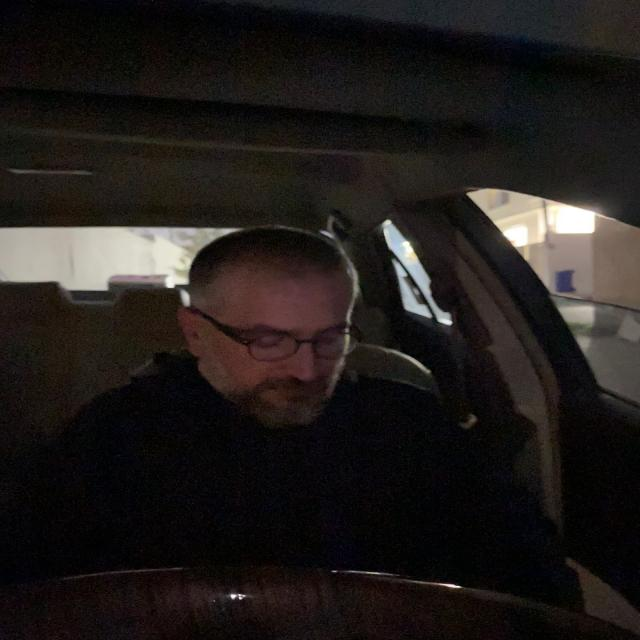drowsy: (192, 243, 360, 426)
